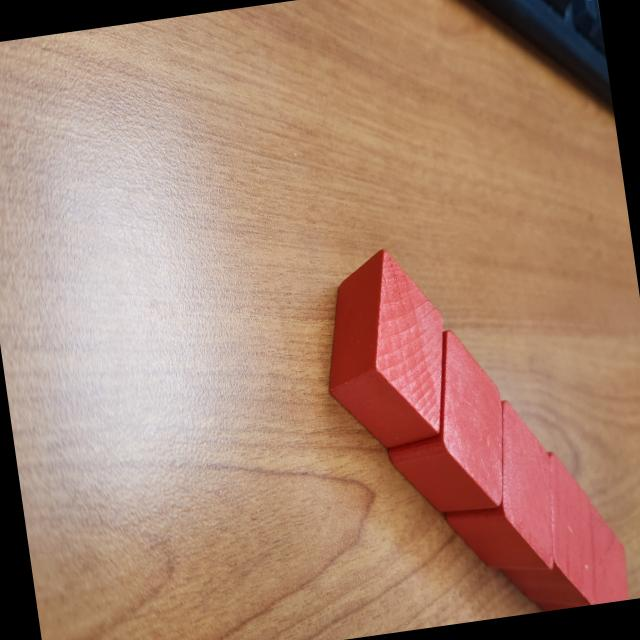red: (309, 241, 460, 456), (371, 322, 517, 522), (431, 394, 567, 580), (486, 446, 604, 613), (579, 496, 633, 604)
